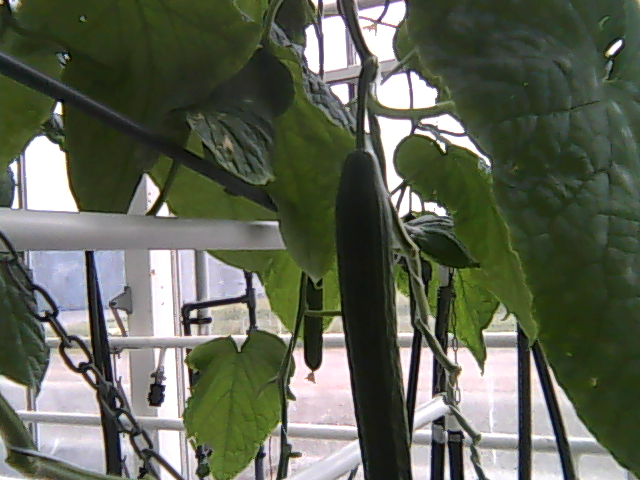concombre: (332, 142, 419, 480)
